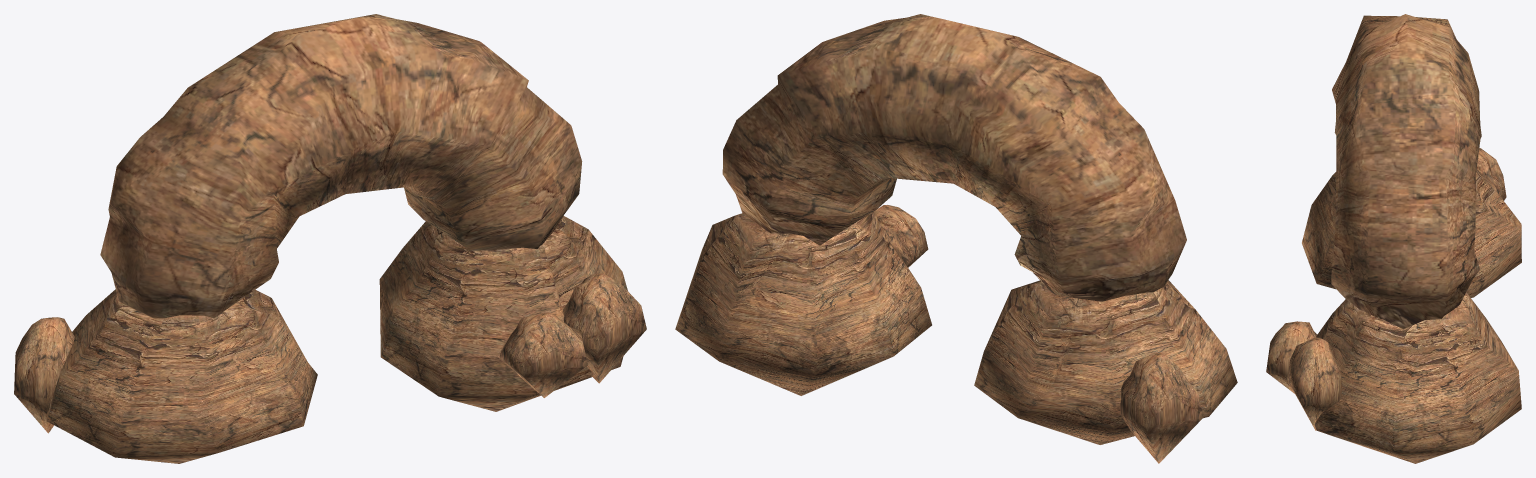
File: rock_tatt_arch_lrg_l2.fbx
3 views of the same model, side by side, from view 1: azimuth 30°, elevation 25°; view 2: azimuth 150°, elevation 25°; view 3: azimuth 270°, elevation 25° (orthographic). The views are drawn at different scales.
Parts seen in each view (by area): view 1: mesh_node; view 2: mesh_node; view 3: mesh_node.
Boxes of the visible parts, <box> form: mesh_node: <box>14,14,646,463</box>; mesh_node: <box>675,14,1237,463</box>; mesh_node: <box>1266,14,1521,463</box>.
Bounding box in the file's own units: 84.94 × 60.4 × 38.07.
